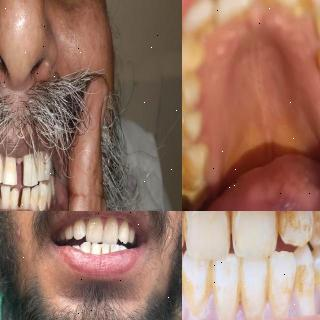calculus: (182, 180, 203, 204), (182, 155, 198, 177), (28, 194, 34, 211), (8, 191, 12, 209)
maligned: (85, 213, 103, 244), (104, 216, 118, 246), (101, 240, 110, 258), (92, 241, 102, 257), (110, 241, 120, 257), (80, 240, 91, 254)
stains: (234, 211, 280, 257), (182, 256, 214, 320), (211, 257, 242, 320), (185, 211, 229, 255), (264, 256, 290, 317), (239, 263, 266, 318), (292, 262, 316, 319), (276, 211, 308, 249), (296, 0, 318, 19), (313, 211, 320, 250), (182, 83, 192, 109), (33, 152, 41, 175), (315, 43, 320, 77), (38, 190, 44, 210), (43, 155, 48, 173), (99, 244, 106, 256), (88, 244, 93, 256), (107, 245, 113, 255)
